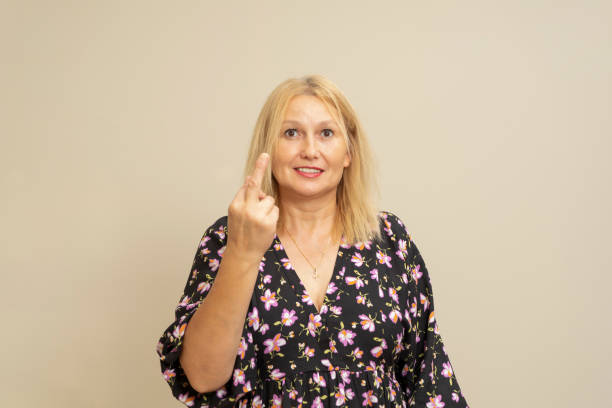insulting_gesture: (228, 152, 280, 255)
